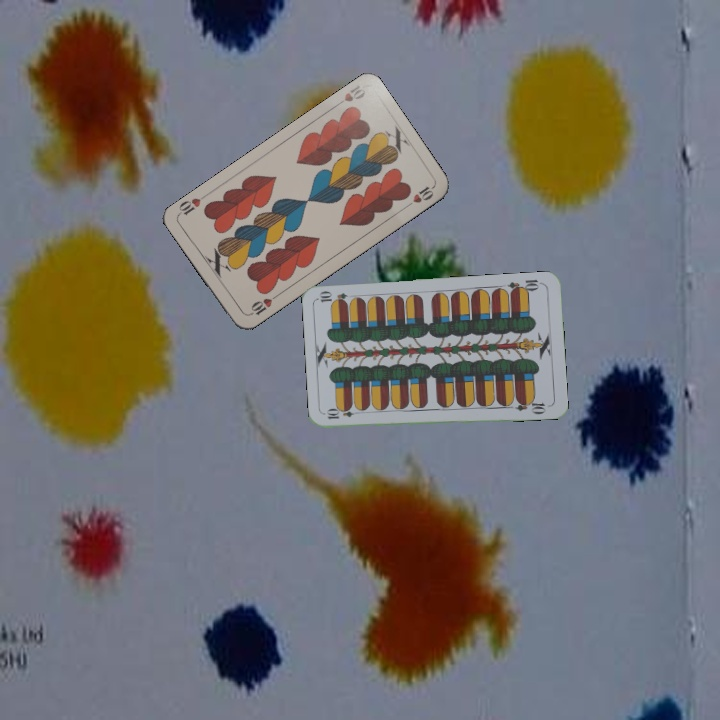E10: (504, 275, 545, 296), (323, 406, 363, 422)
H10: (330, 81, 368, 110), (245, 291, 281, 318)
